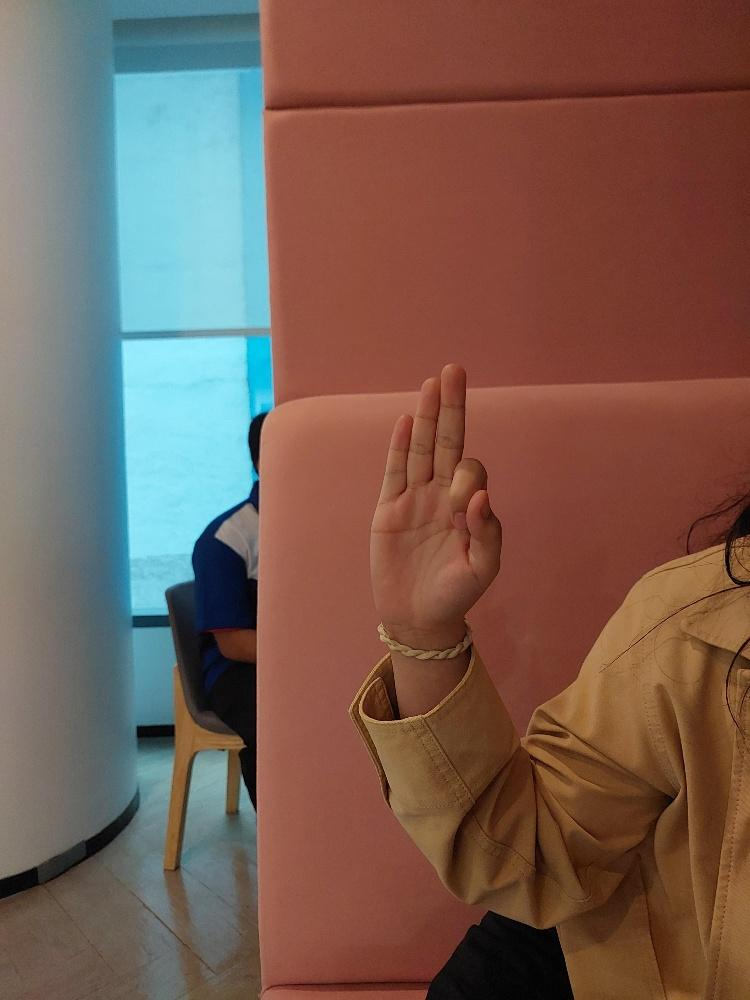f: (362, 355, 511, 649)
